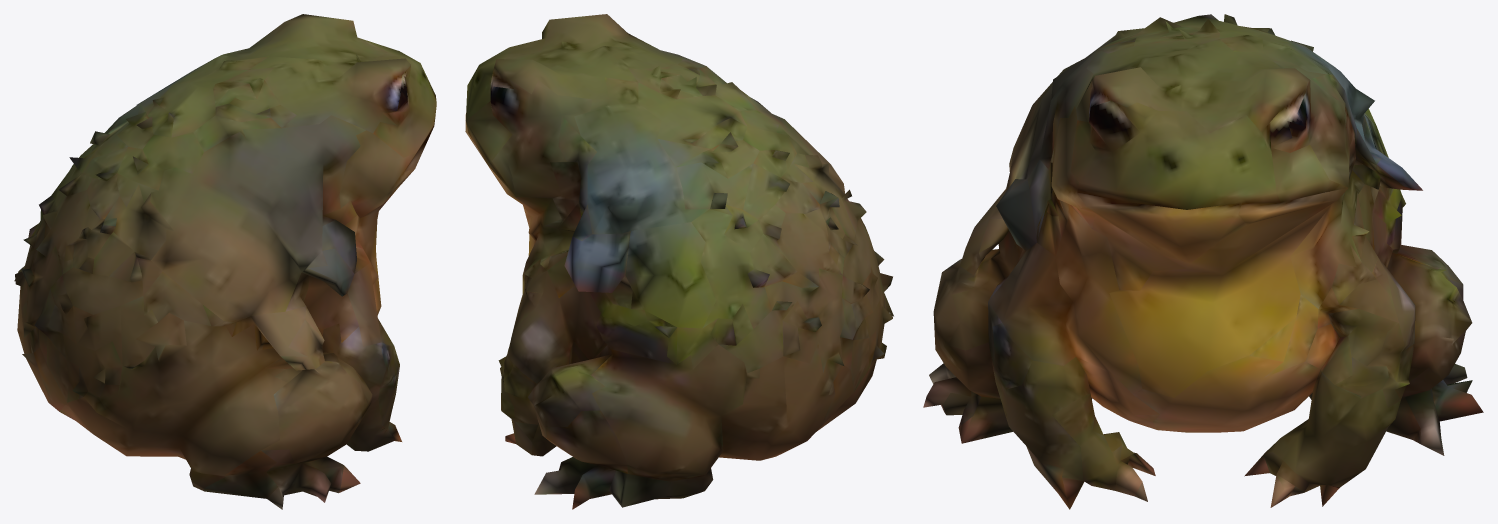
The model's file is mob_toad.lo.glb.
3 renders of one model, left to right at view 1: azimuth 30°, elevation 25°; view 2: azimuth 150°, elevation 25°; view 3: azimuth 270°, elevation 25°, orthographic. The views are drawn at different scales.
Parts seen in each view (by area): view 1: tripo_node_0153710b-8e9d-4f42-aa3e-2bbf8f4e199a; view 2: tripo_node_0153710b-8e9d-4f42-aa3e-2bbf8f4e199a; view 3: tripo_node_0153710b-8e9d-4f42-aa3e-2bbf8f4e199a.
Part boxes in pixels (x1,y1,x2,y2): tripo_node_0153710b-8e9d-4f42-aa3e-2bbf8f4e199a: (14, 14, 436, 509); tripo_node_0153710b-8e9d-4f42-aa3e-2bbf8f4e199a: (465, 14, 893, 509); tripo_node_0153710b-8e9d-4f42-aa3e-2bbf8f4e199a: (923, 14, 1483, 509).
Size of the model in its own units: 0.959 by 0.8592 by 1.
1 material, 1 textured.
